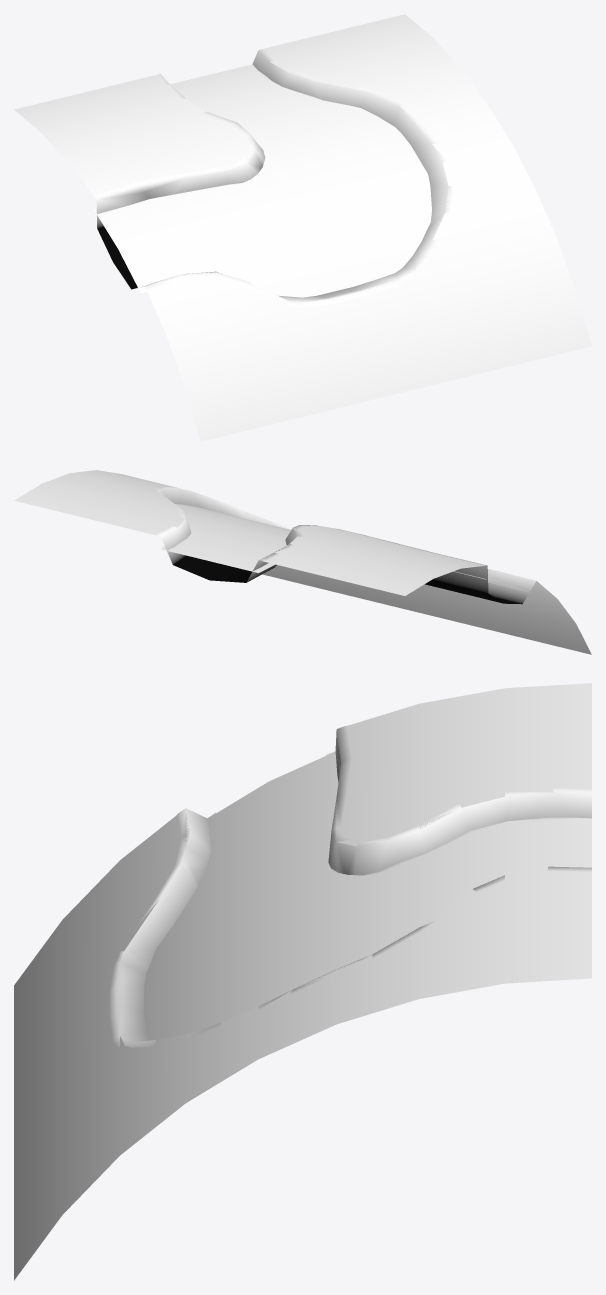
Rendered from grd_Ren_P_1.dae.
3 renders of one model, top to bottom at view 1: azimuth 30°, elevation 25°; view 2: azimuth 150°, elevation 25°; view 3: azimuth 270°, elevation 25°, orthographic. The views are drawn at different scales.
Visible parts, largest first — view 1: grass_1_0, river_2_0, cliff_river_0_0, river_gdge_3_0; view 2: grass_1_0, cliff_river_0_0, river_2_0, river_gdge_3_0; view 3: grass_1_0, river_2_0, cliff_river_0_0, river_gdge_3_0.
Part boxes in pixels (bbox=[...]): grass_1_0: bbox=[14, 14, 591, 441]; river_2_0: bbox=[94, 65, 431, 297]; cliff_river_0_0: bbox=[93, 48, 454, 308]; river_gdge_3_0: bbox=[94, 64, 431, 297]; grass_1_0: bbox=[14, 470, 591, 654]; cliff_river_0_0: bbox=[155, 486, 538, 604]; river_2_0: bbox=[161, 504, 531, 593]; river_gdge_3_0: bbox=[161, 504, 530, 593]; grass_1_0: bbox=[14, 683, 591, 1280]; river_2_0: bbox=[145, 752, 591, 1040]; cliff_river_0_0: bbox=[109, 725, 591, 1048]; river_gdge_3_0: bbox=[144, 751, 591, 1040].
Size of the model in its own units: 512 by 244 by 423.
4 materials, 1 textured.
